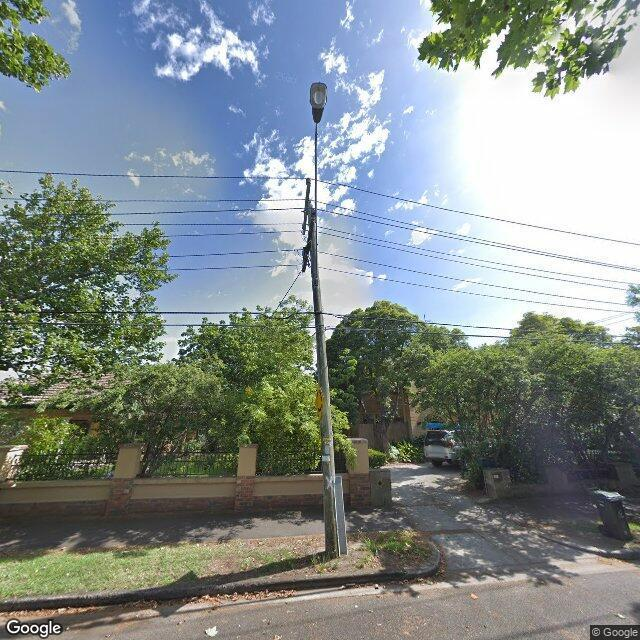crossarm: (302, 210, 316, 273), (302, 179, 310, 234)
streetlight: (310, 82, 328, 286)
timber-pole: (310, 210, 340, 558)
